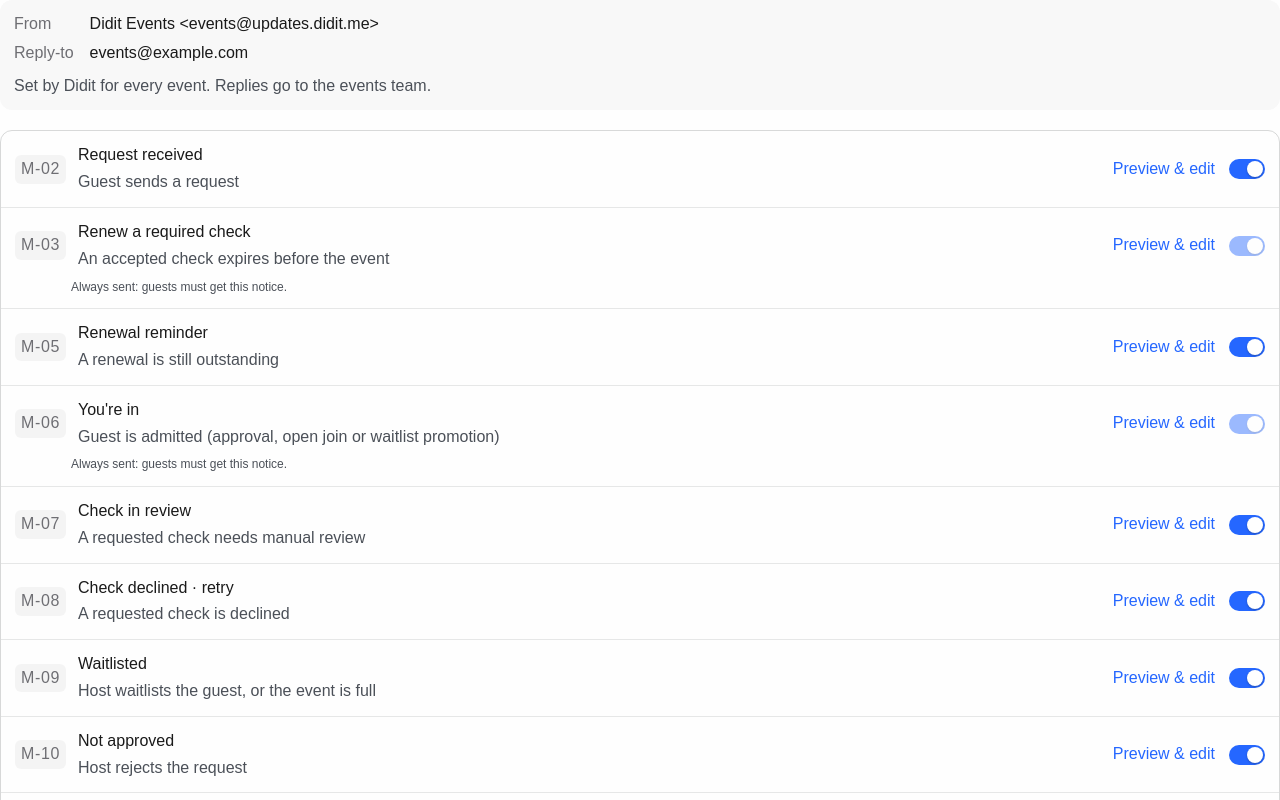
it: real routes (no sample renderer) › say why there is no preview instead of showing fixture data
Click the button "Preview & edit" in the row of "Guest sends a request": (1164, 169) [1113,157,1215,182]
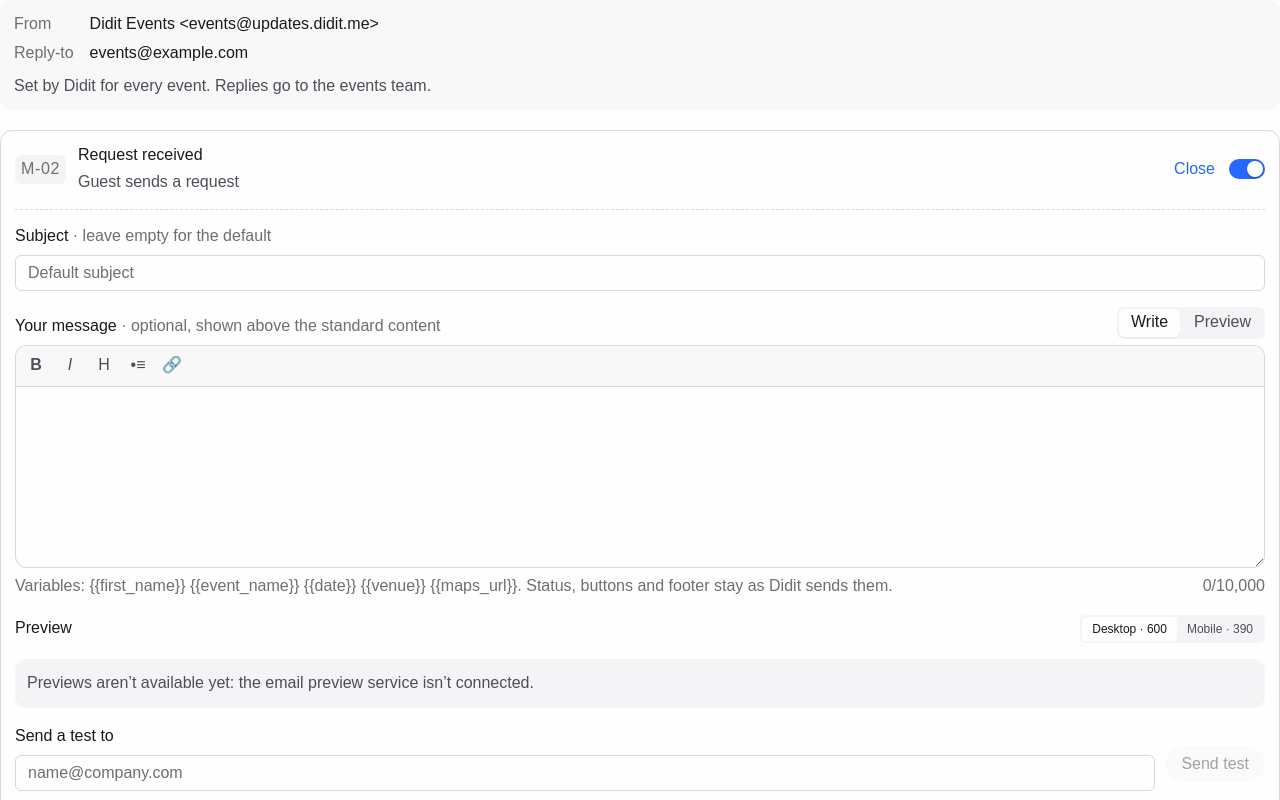
Now the text "Previews aren’t available yet" is shown, box [27,674,534,691]
Click the button "Close": (1195, 169) [1174,157,1215,182]
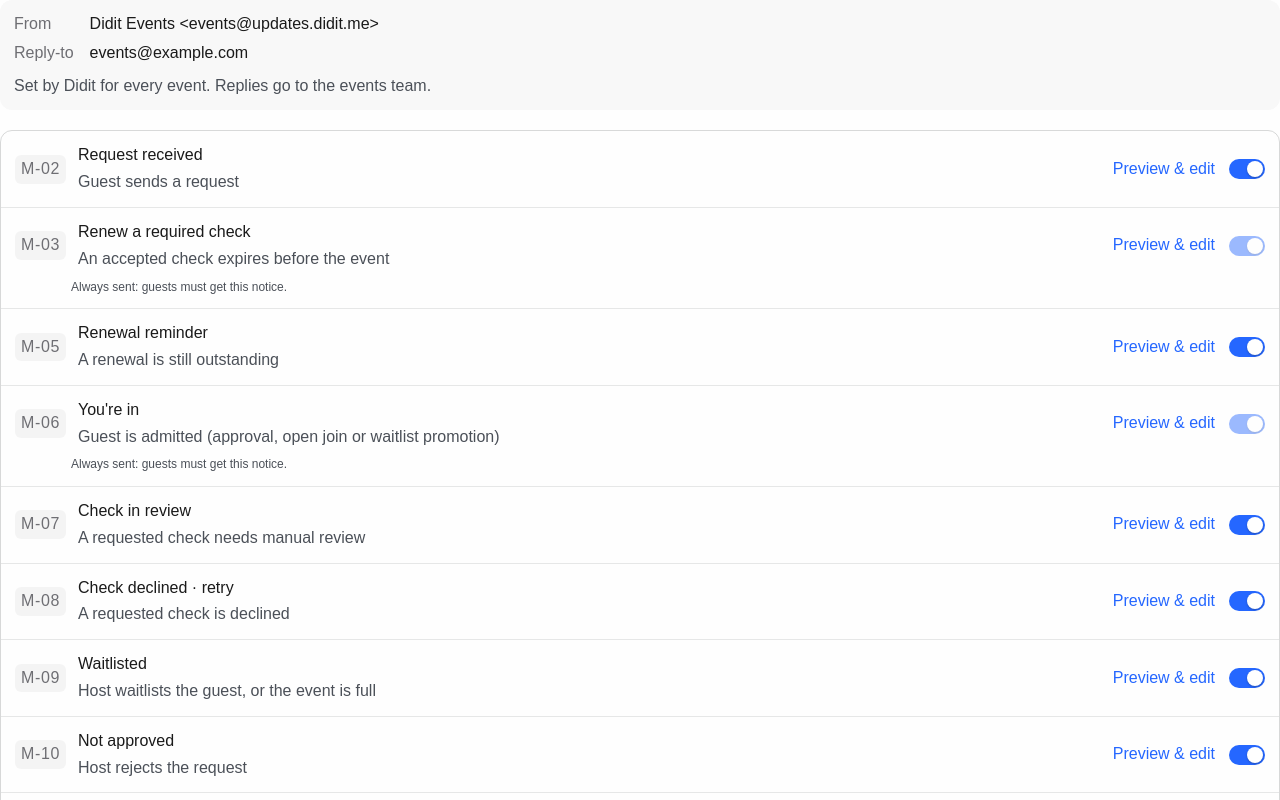
Click the button "Preview & edit" in the row of "Guest sends a request": (1164, 169) [1113,157,1215,182]
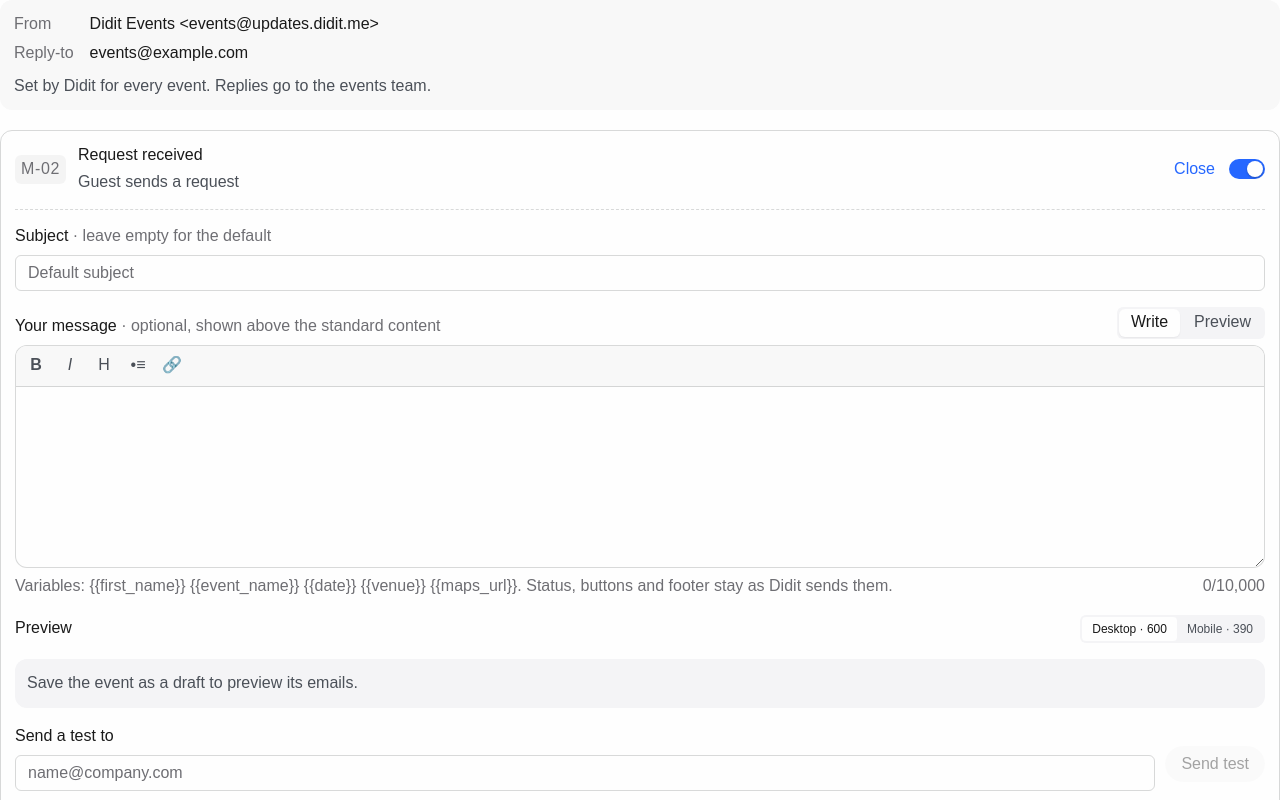
Now the text "Save the event as a draft to preview its emails." is shown, box [27,674,358,691]
